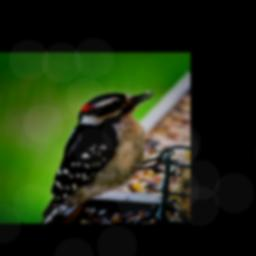Woodpecker: (40, 90, 178, 223)
